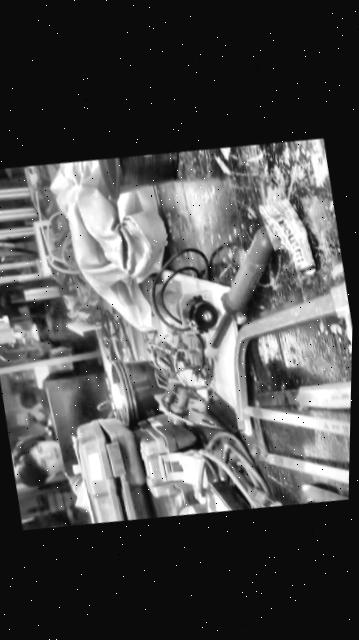pot: (94, 146, 185, 206)
